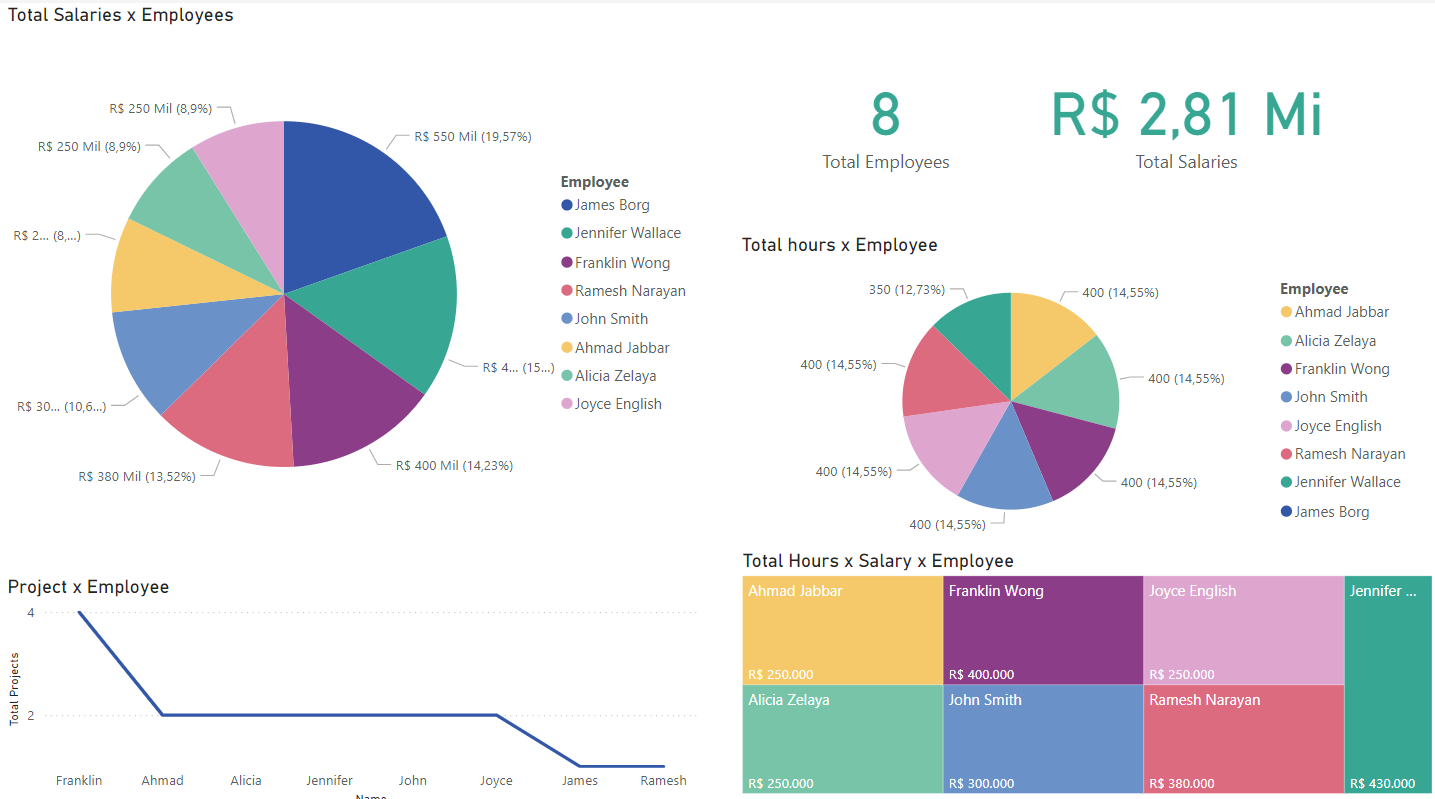

What the dashboard file says about the page in this screenshot:
{"tool":"powerbi","page":{"name":"Employee","canvas":[1280,720],"ordinal":2},"visuals":[{"type":"pieChart","title":"Total Salaries x Employees","fields":{"Category":["employee_dep.Full_name"],"Y":["Sum(employee_dep.Salary)"]},"box":[0,0,625.2,500.4],"z":0},{"type":"treemap","title":"Total Hours x Salary x Employee","fields":{"Values":["Sum(works_on.Hours)"],"Group":["employee_dep.Full_name"],"Details":["employee_dep.Salary"]},"box":[655.4,486.7,625.2,223.5],"z":1000},{"type":"lineChart","title":"Project x Employee","fields":{"Category":["employee_dep.Name"],"Y":["CountNonNull(works_on.Project_ID)"]},"box":[0,510,625,210],"z":2000},{"type":"card","fields":{"Values":["Count(employee_dep.Full_name)"]},"box":[654.7,0,267.7,204.6],"z":3000},{"type":"card","fields":{"Values":["Sum(employee_dep.Salary)"]},"box":[878,0,358,204.6],"z":4000},{"type":"pieChart","title":"Total hours x Employee","fields":{"Y":["Sum(works_on.Hours)"],"Category":["employee_dep.Full_name"]},"box":[655.2,205.4,612.4,281.2],"z":5000}]}

Visuals, with their boxes in screenshot pixels (x1, y1, x2, y2), scaled from the page's 1280x720 canvas onto the 1435x799 screenshot:
"Total Salaries x Employees" pieChart: (0,0,701,555)
"Total Hours x Salary x Employee" treemap: (735,540,1434,788)
"Project x Employee" lineChart: (0,566,701,798)
card - Count(employee_dep.Full_name): (734,0,1034,227)
card - Sum(employee_dep.Salary): (984,0,1386,227)
"Total hours x Employee" pieChart: (735,228,1421,540)
